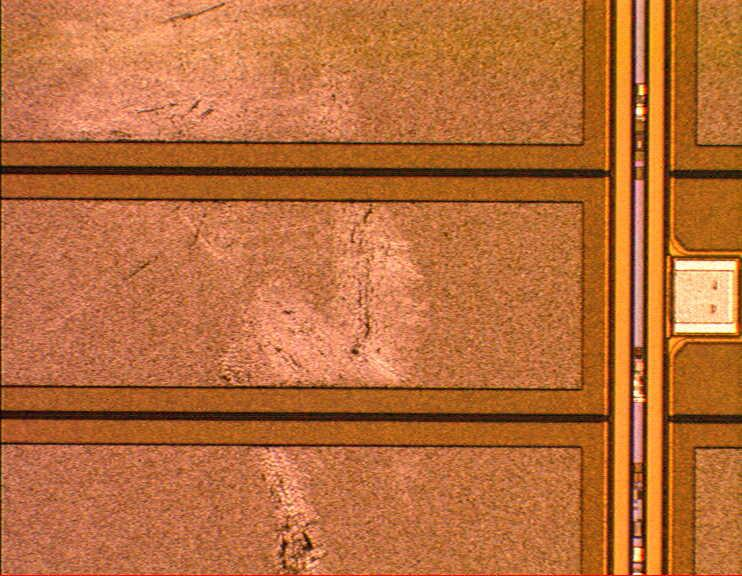SCRATCH: (25, 1, 446, 576)
